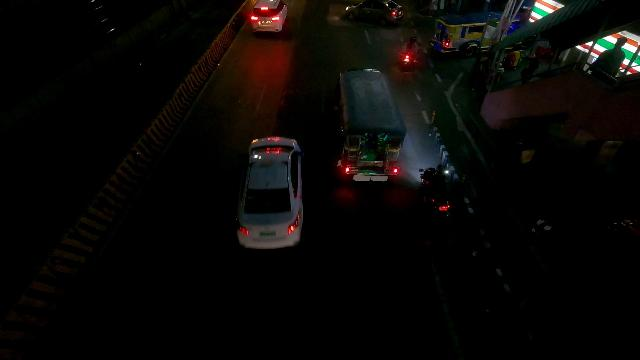car: (237, 136, 303, 249), (346, 0, 404, 26), (250, 0, 287, 34)
jeepney: (338, 68, 407, 181)
